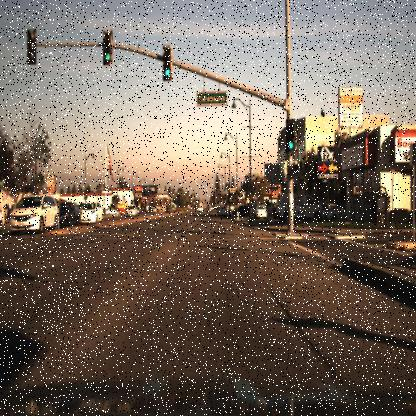car: (10, 192, 61, 236), (274, 186, 322, 226), (56, 198, 83, 228), (78, 200, 104, 230), (325, 204, 349, 220), (126, 204, 140, 220), (104, 203, 119, 216), (257, 203, 268, 219), (218, 206, 229, 220)
trafficLight-Green: (102, 28, 113, 65), (286, 116, 296, 156), (162, 47, 172, 83)
